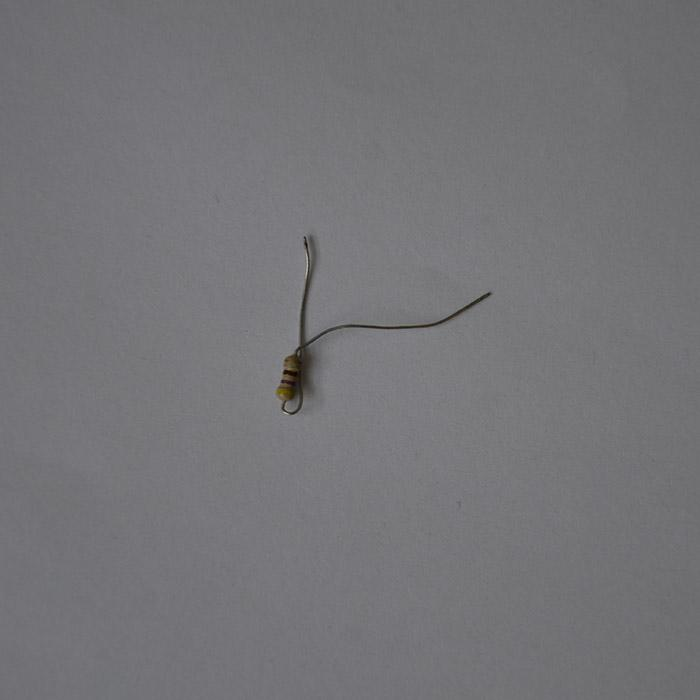resistor: (274, 353, 302, 404)
